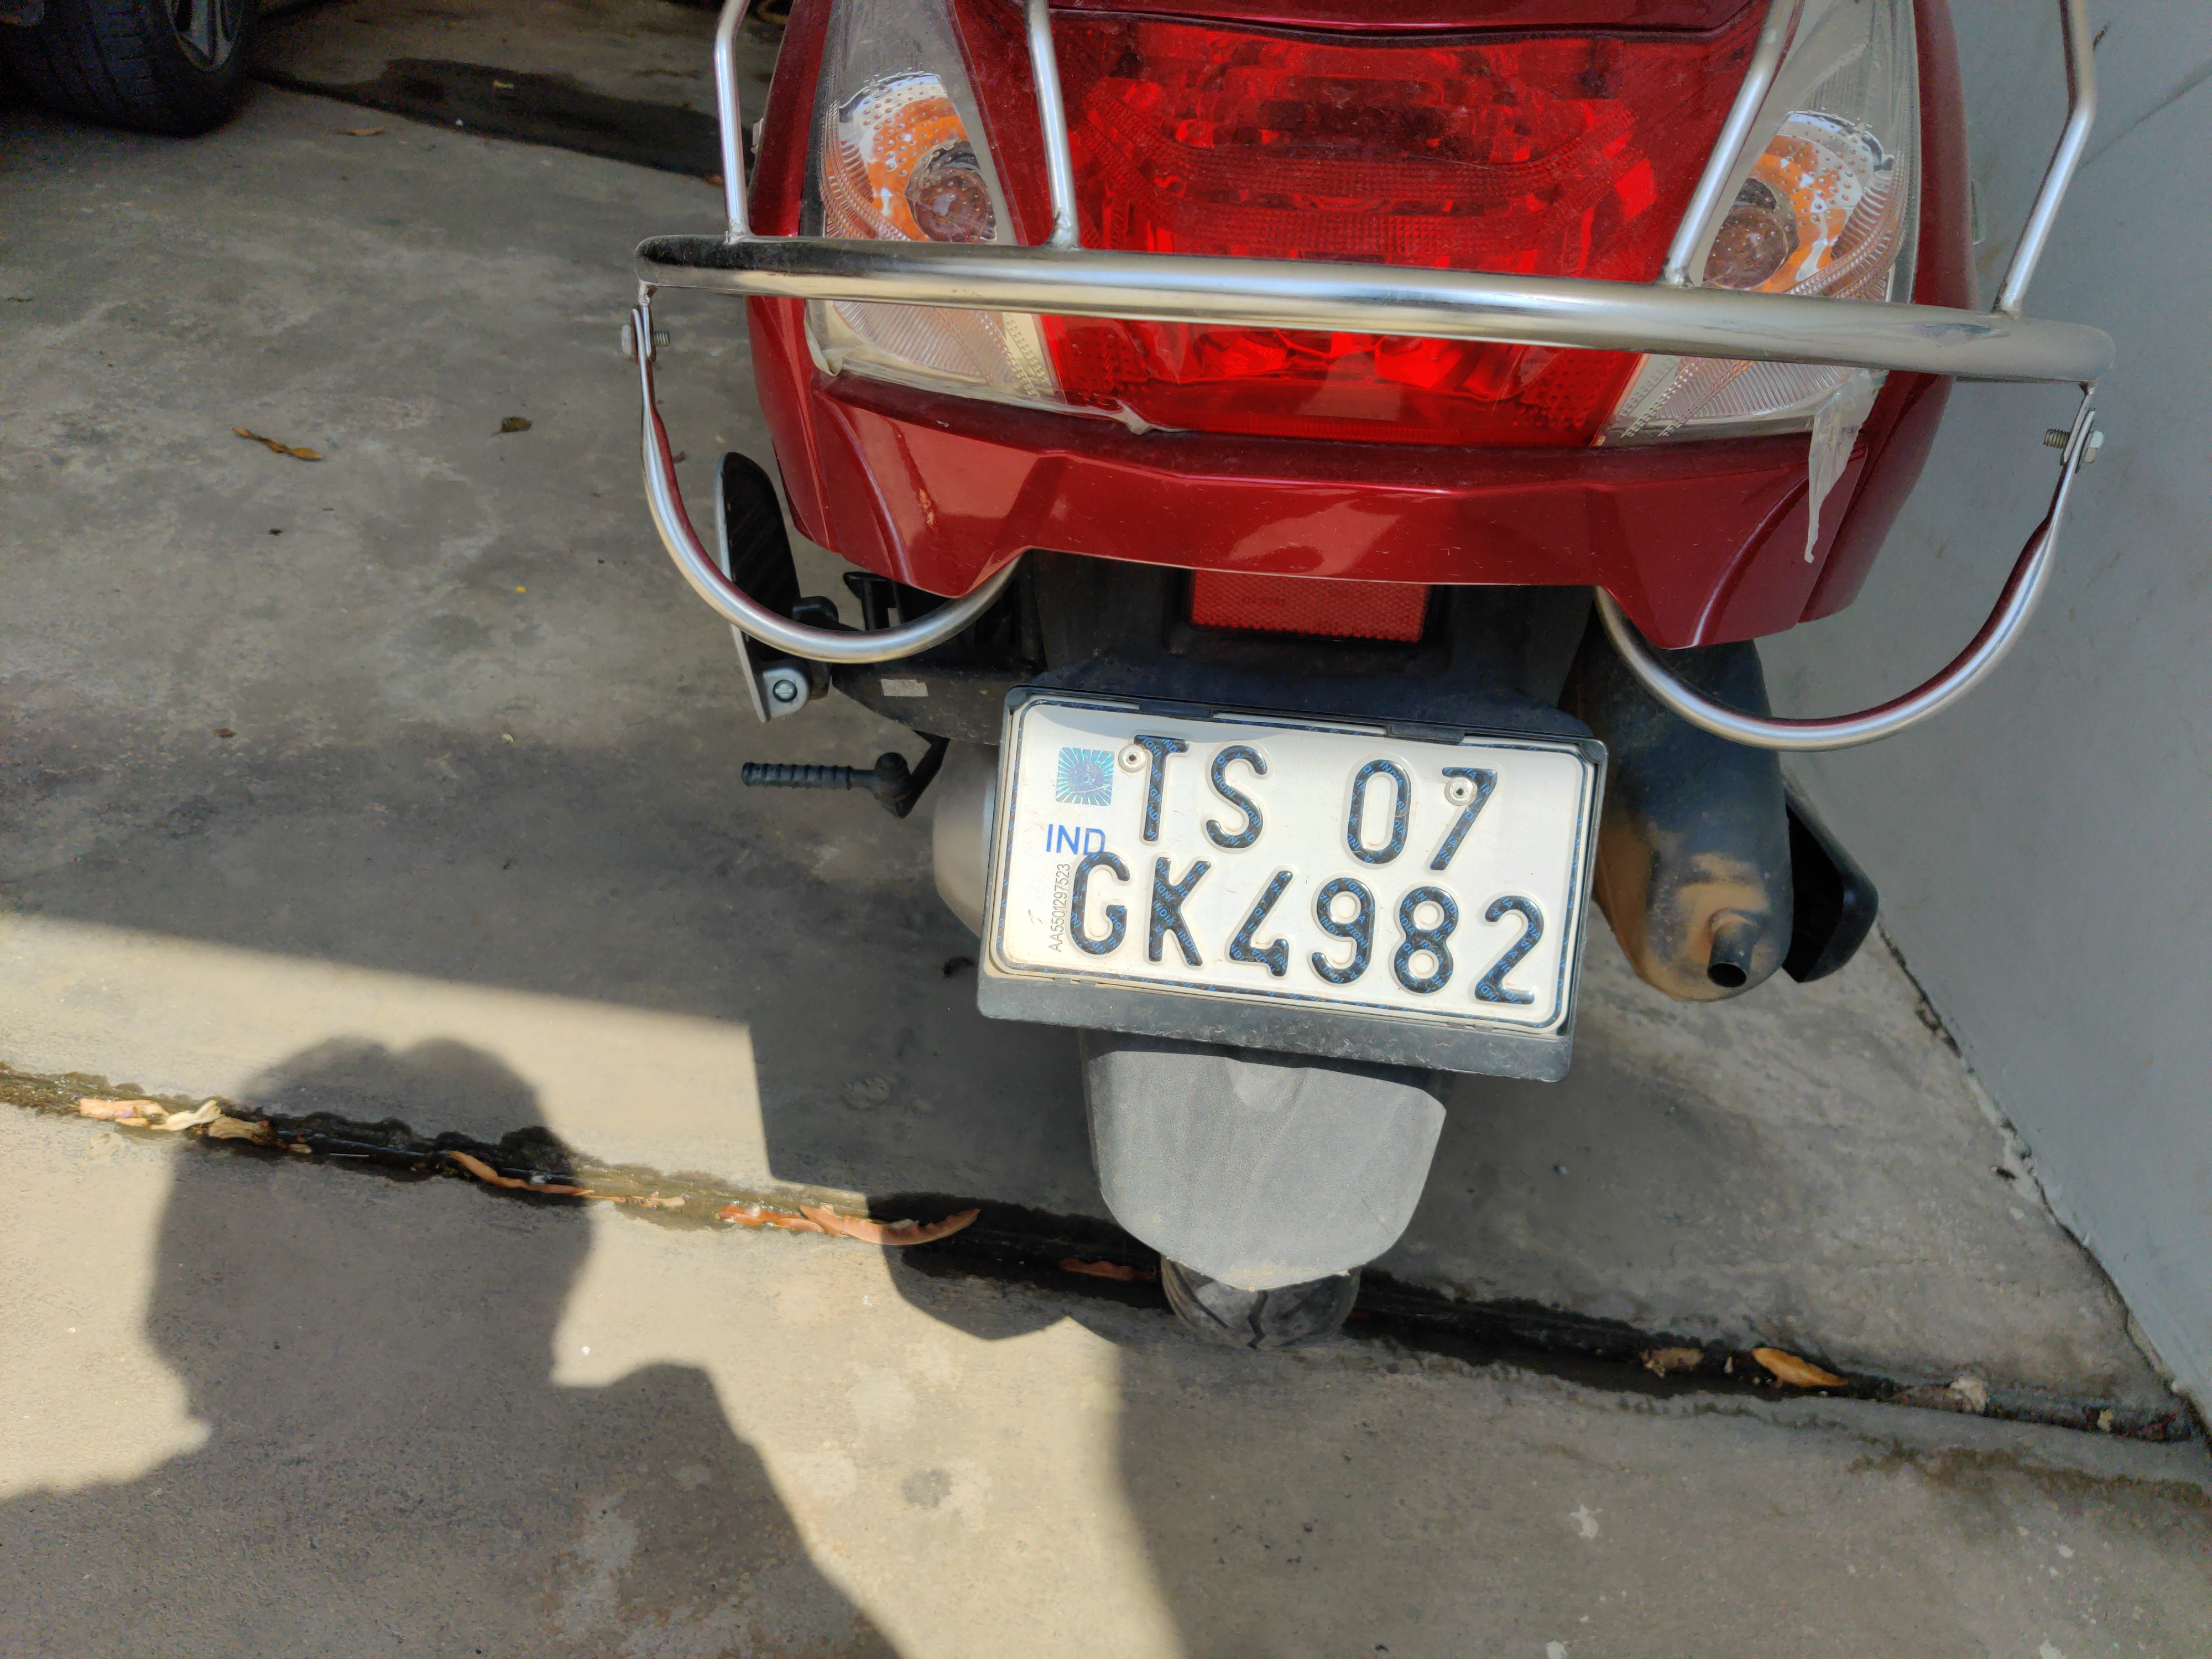plate: (987, 650, 1618, 1125)
